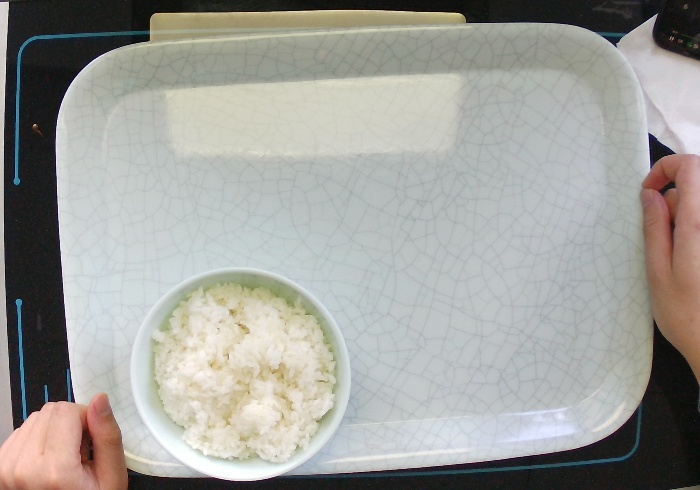JYsf-Fan_Wan: (125, 259, 356, 487)
